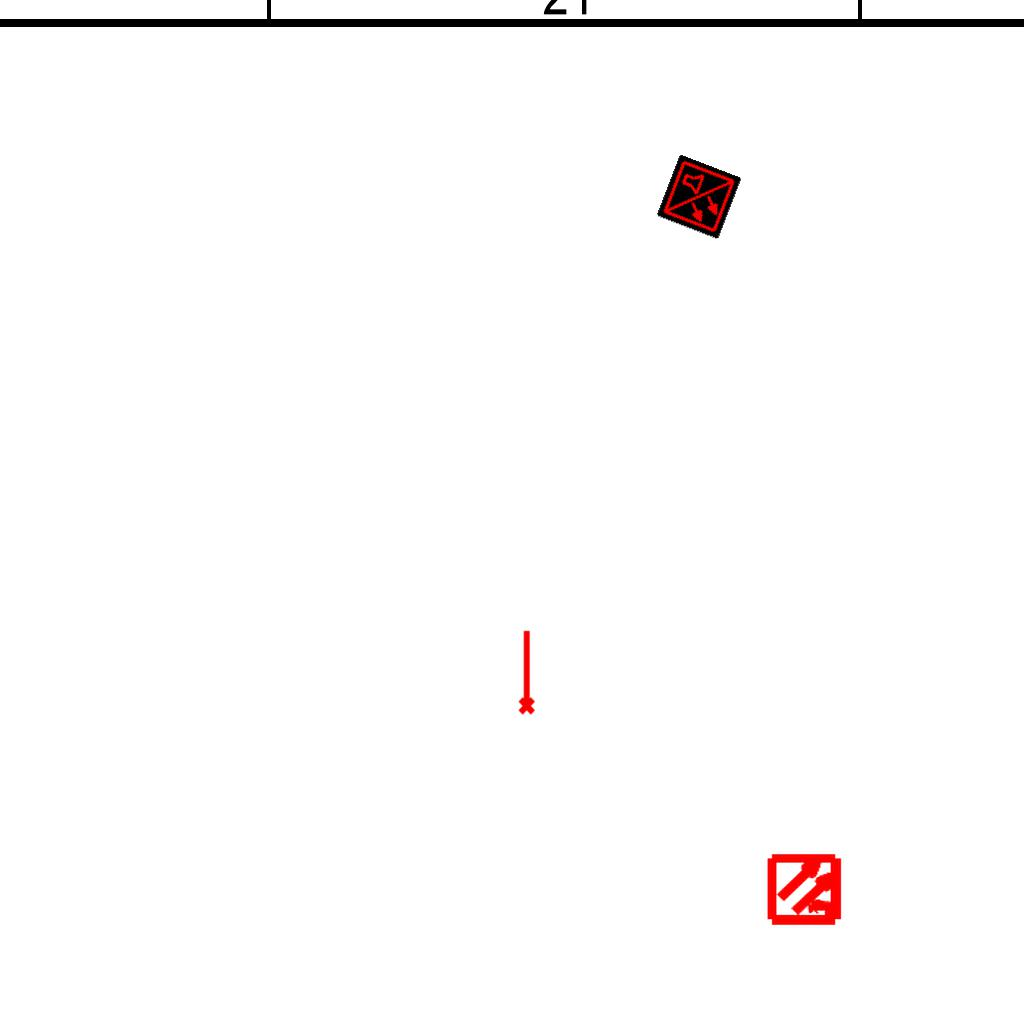ASR_Ansaugoeffnung: (514, 628, 537, 716)
OKW_Multisensormelder_(Kombination_optischer_Rauch-Kahlenmonoxid_Waerme-Melder): (656, 154, 742, 240)
OT_Multisensormelder_(Kombination_RMO_WMD): (750, 833, 863, 946)
